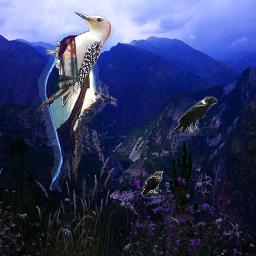Crow: (170, 95, 218, 136), (141, 171, 163, 197)
Woodpecker: (31, 23, 117, 191), (37, 10, 113, 112)
